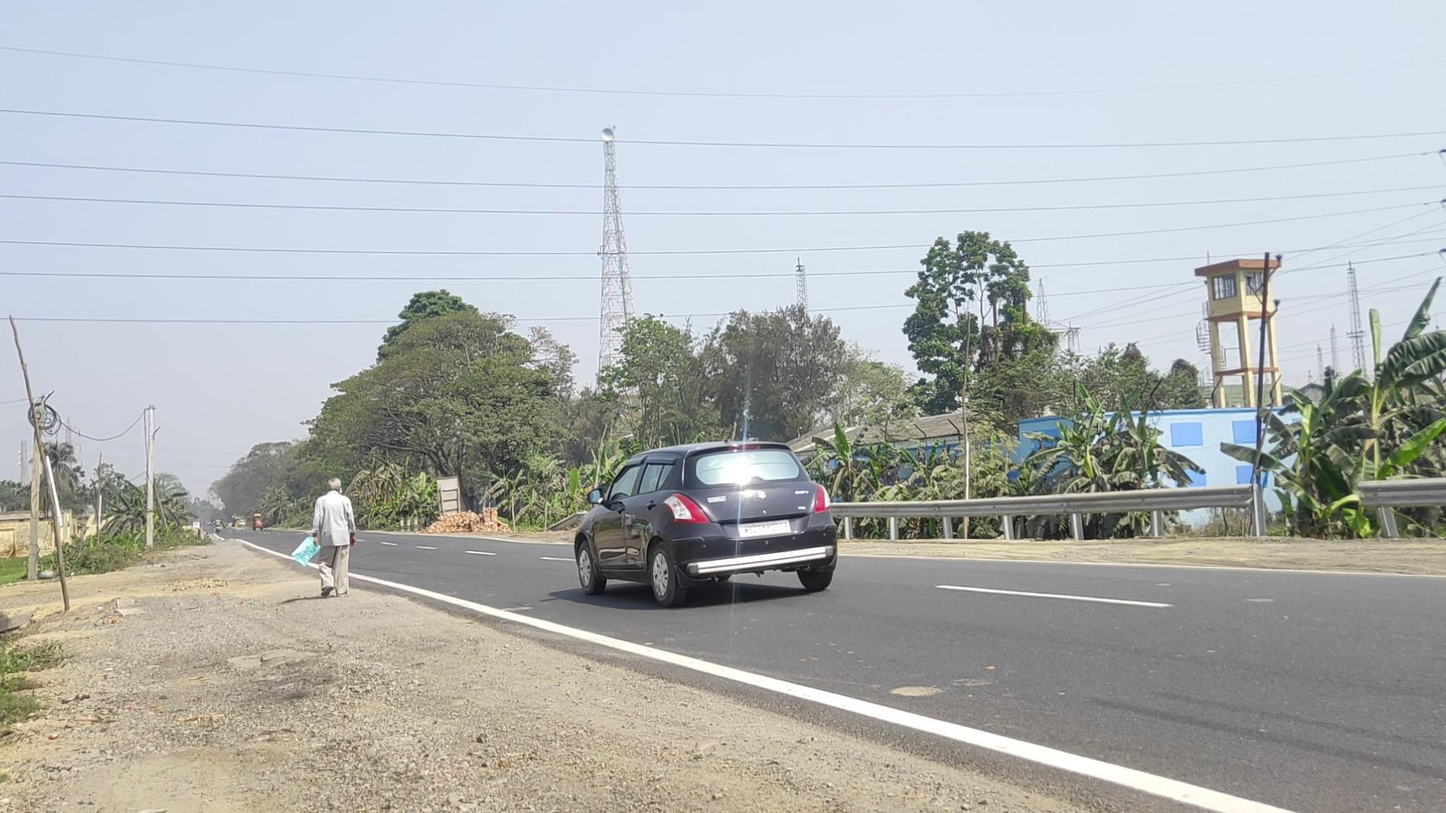car: (574, 440, 838, 608)
